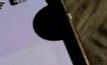screen_defect: (0, 0, 105, 65)
